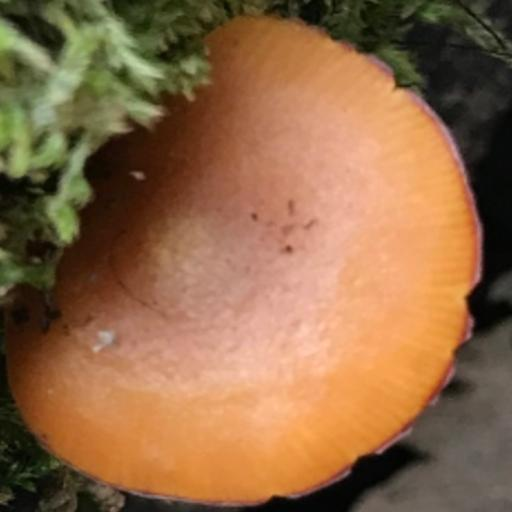mushroom: (34, 12, 487, 499)
